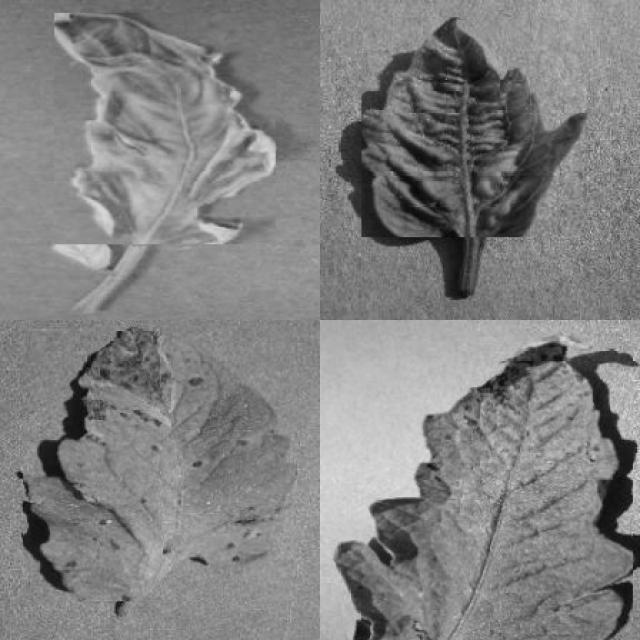Septoria: (336, 333, 633, 640), (23, 326, 298, 601)
Yellow Leaf Curl Virus: (54, 14, 276, 245), (362, 17, 588, 237)
